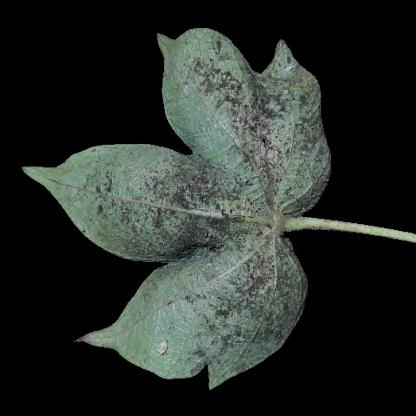curl_stage2: (136, 283, 188, 365), (184, 102, 212, 146)
sooty: (153, 162, 238, 248), (253, 83, 322, 187), (208, 258, 305, 328), (228, 174, 294, 256), (216, 78, 276, 164), (87, 173, 165, 231), (186, 53, 252, 108), (202, 327, 264, 371)
